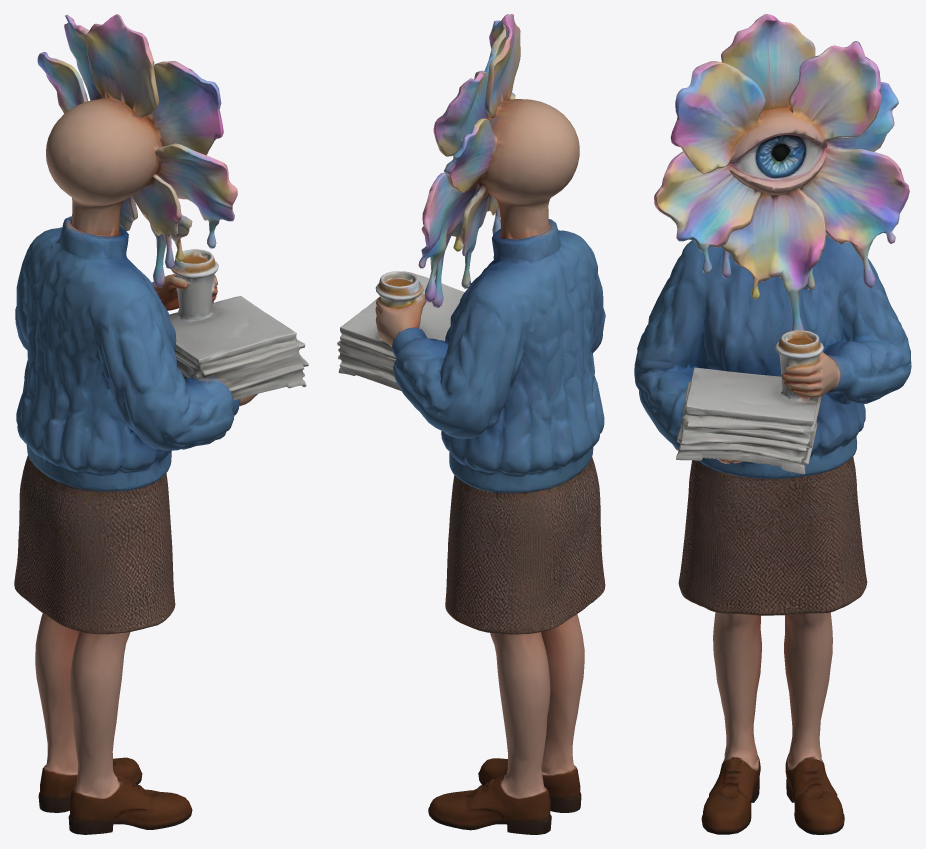
The model's file is assistant.glb.
The picture shows the model from 3 angles, left to right: view 1: azimuth 30°, elevation 25°; view 2: azimuth 150°, elevation 25°; view 3: azimuth 270°, elevation 25°; orthographic projection.
Visible parts, largest first — view 1: tripo_node_583bd843-d0c9-4fd2-bfd0-3545a6174963; view 2: tripo_node_583bd843-d0c9-4fd2-bfd0-3545a6174963; view 3: tripo_node_583bd843-d0c9-4fd2-bfd0-3545a6174963.
Part boxes in pixels (bbox=[...]): tripo_node_583bd843-d0c9-4fd2-bfd0-3545a6174963: bbox=[14, 14, 308, 834]; tripo_node_583bd843-d0c9-4fd2-bfd0-3545a6174963: bbox=[337, 14, 605, 834]; tripo_node_583bd843-d0c9-4fd2-bfd0-3545a6174963: bbox=[634, 14, 911, 834].
Size of the model in its own units: 0.3138 by 1 by 0.3138.
1 material, 1 textured.
